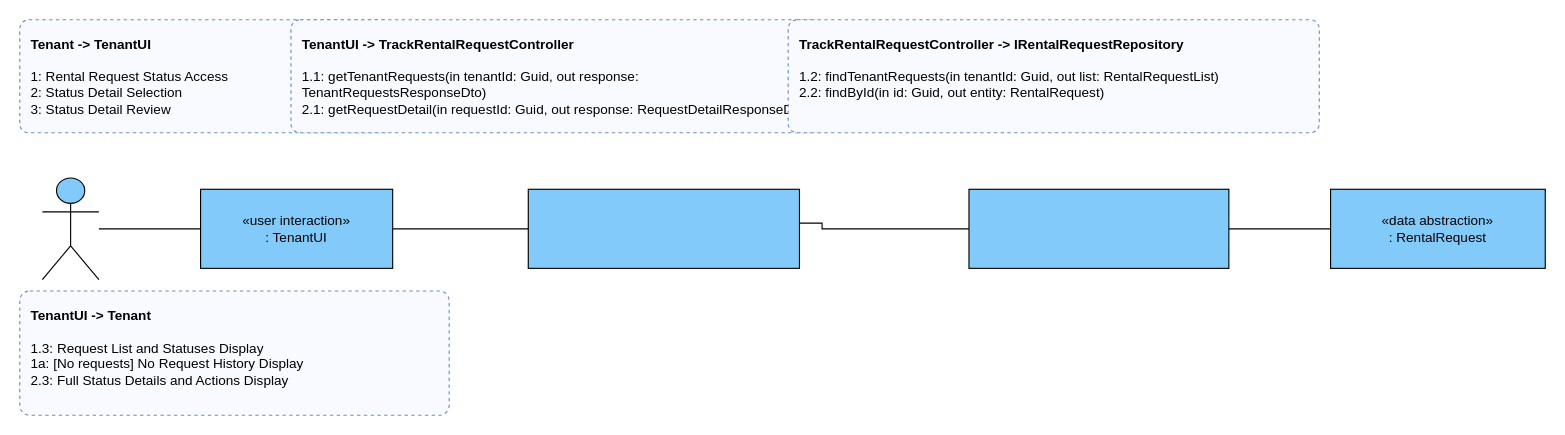
Image size: 1565x435. Some labels were removed from this diagram. Here are the shapes that lost their labels. From the top down, the box of each, then its label:
(41, 177, 99, 280): Tenant
(527, 188, 799, 268): «coordinator» : TrackRentalRequestController
(968, 188, 1229, 268): «database wrapper» : IRentalRequestRepository
